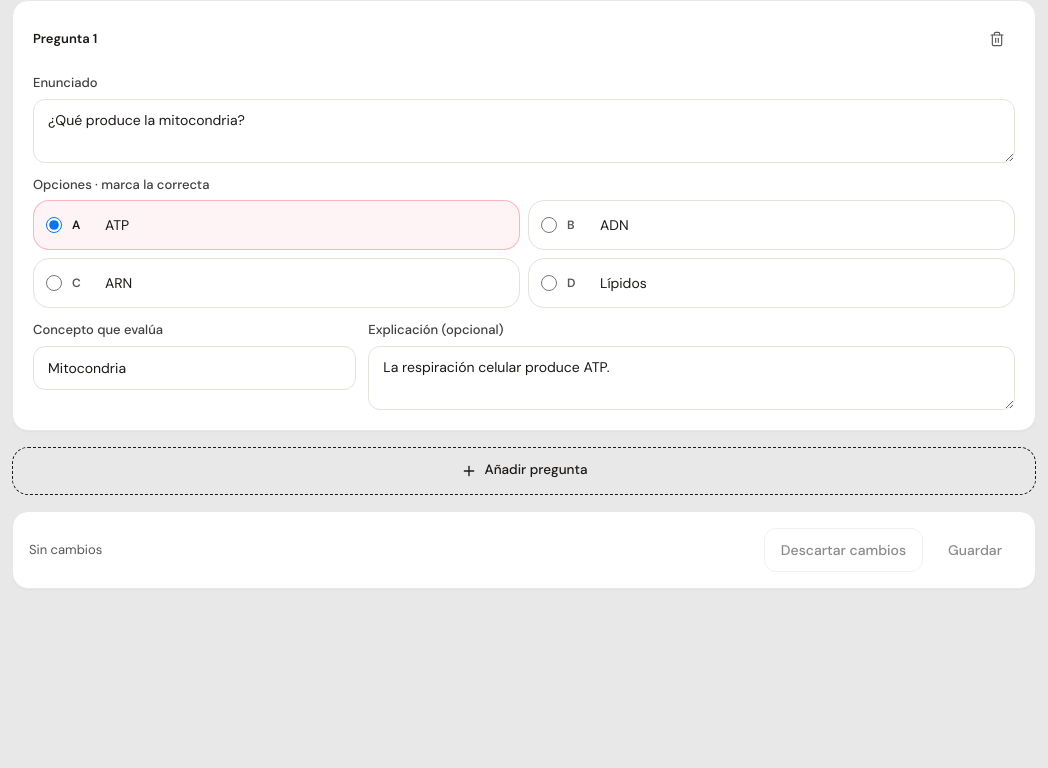
Test case: ExamQuestionsEditor › saves an edit with its loaded version
Replace the text in the text box labelled "Enunciado" with "¿Nueva?" at (524, 130), box [33,98,1015,162]
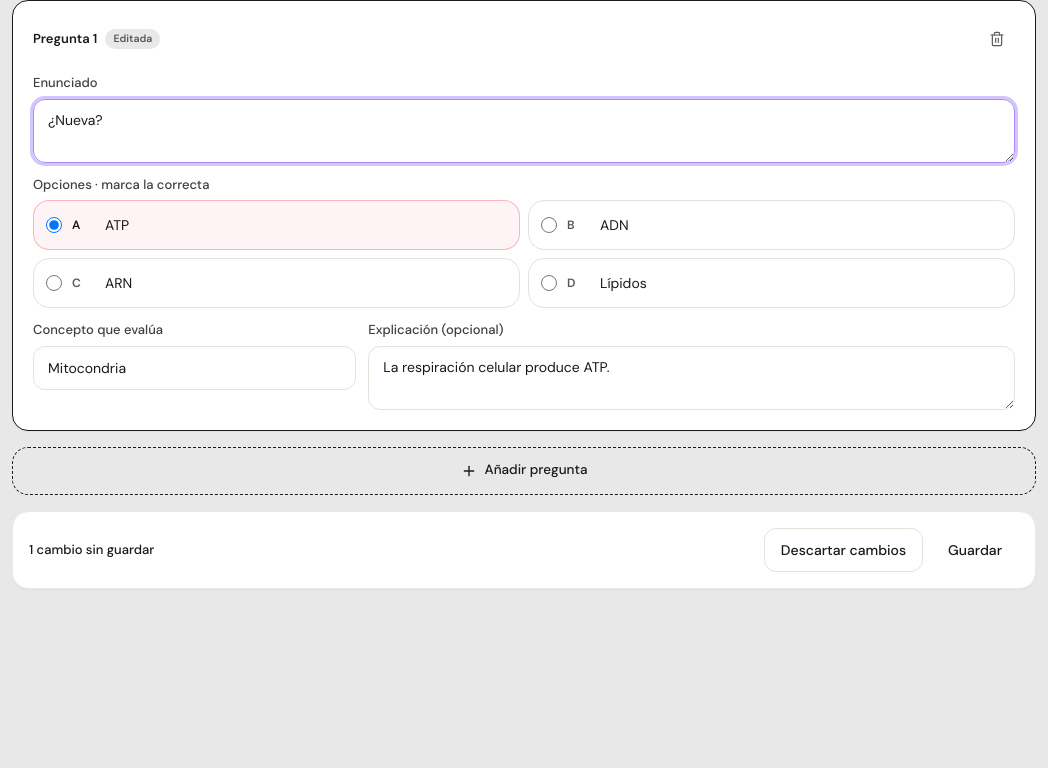
Click the button "Guardar" at (975, 550), box [931,528,1019,572]
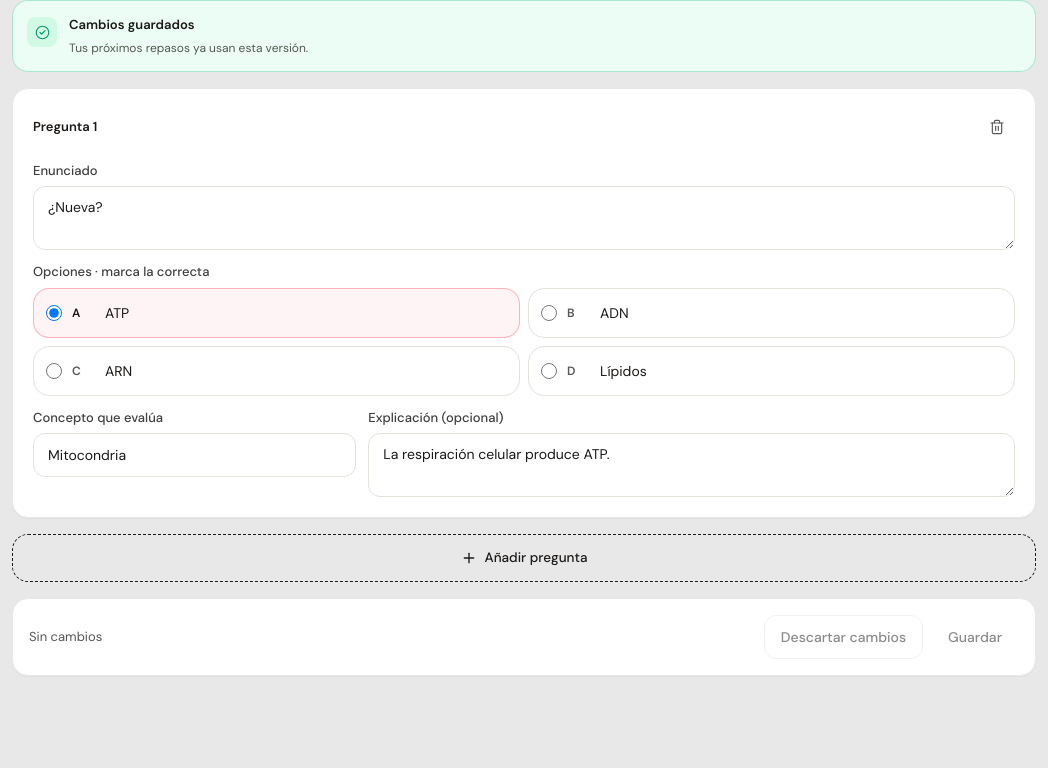
Check: the text "Cambios guardados" is shown, box [69,16,194,33]
